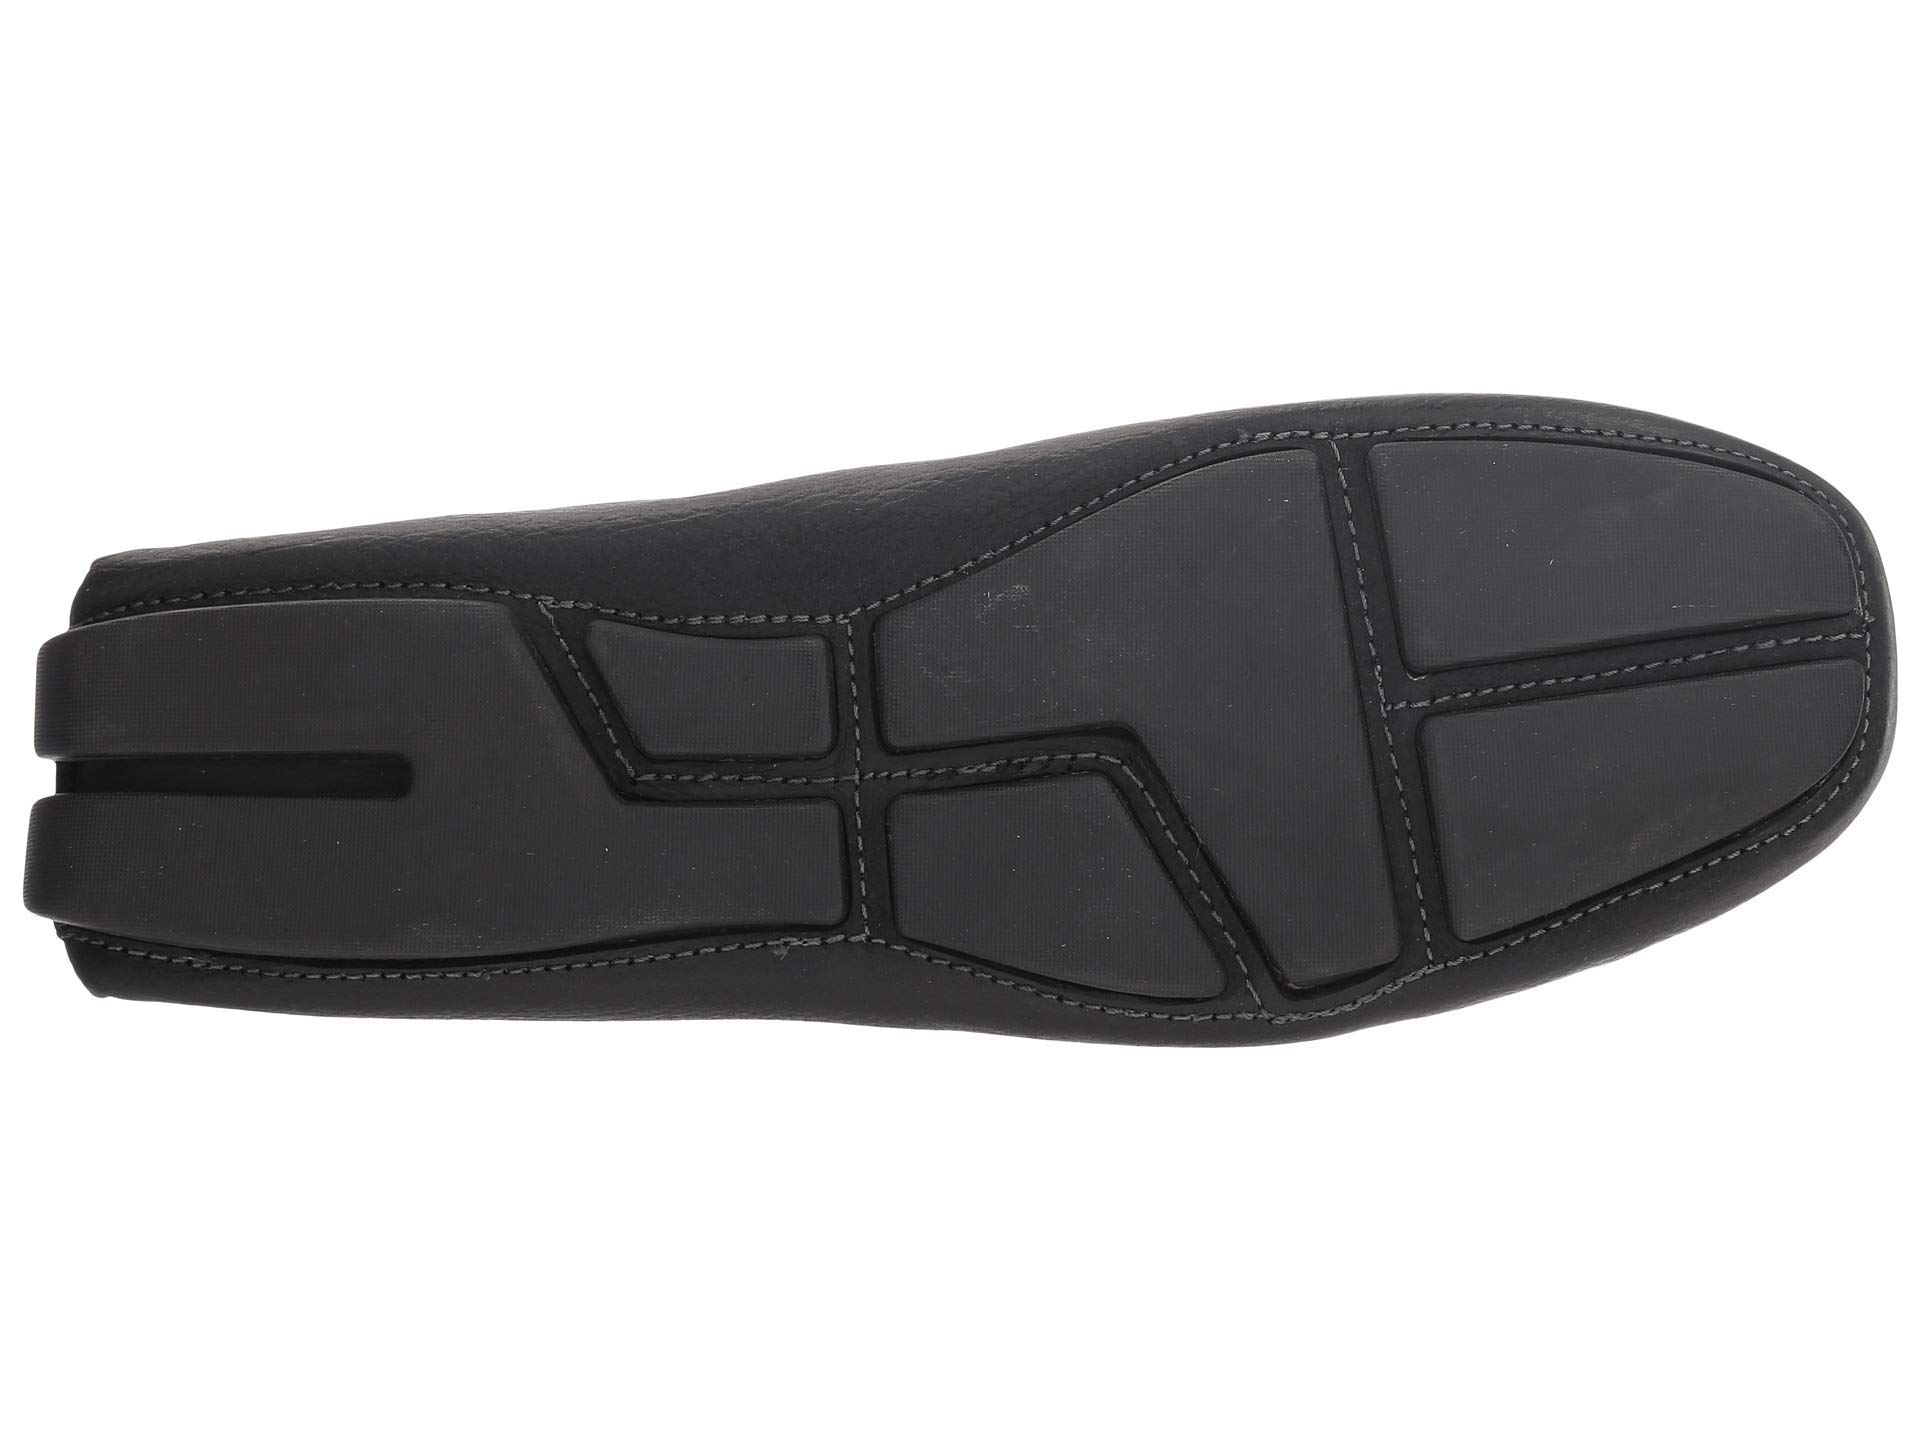line: (1352, 371, 1876, 957), (877, 759, 1268, 1021), (538, 566, 848, 805), (116, 554, 461, 614)
quad: (1352, 371, 1876, 957), (877, 759, 1268, 1021), (538, 566, 848, 805)
